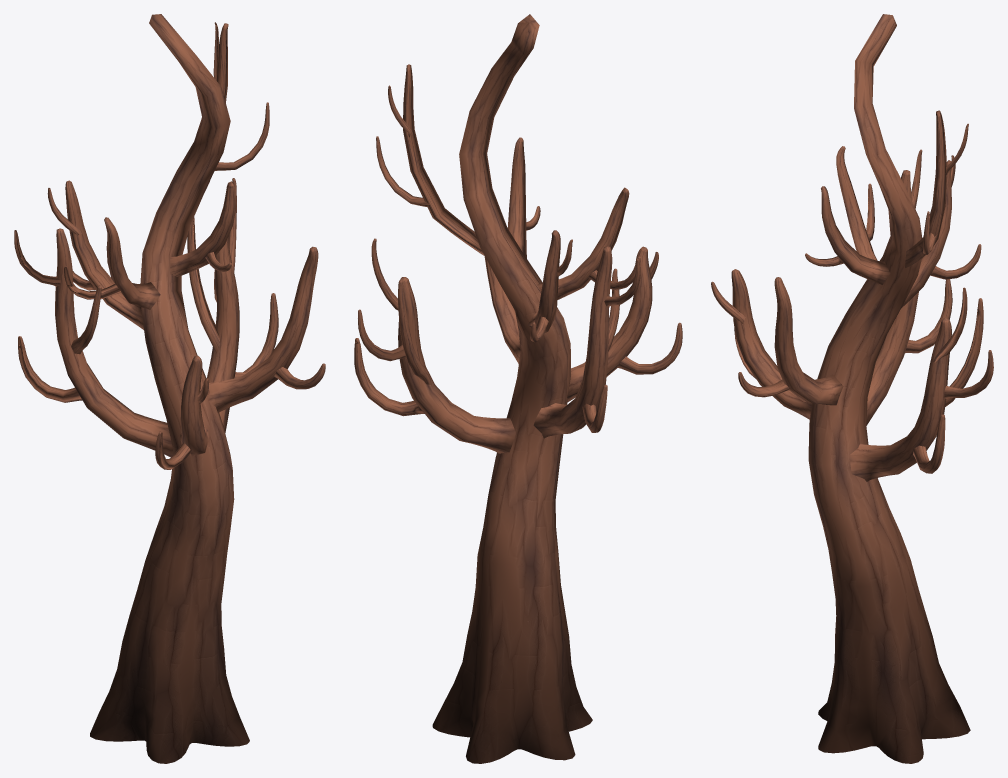
Rendered from commontree_2_bare.gltf.
The picture shows the model from 3 angles, left to right: view 1: azimuth 30°, elevation 25°; view 2: azimuth 150°, elevation 25°; view 3: azimuth 270°, elevation 25°; orthographic projection.
Visible parts, largest first — view 1: commontree_2_bare; view 2: commontree_2_bare; view 3: commontree_2_bare.
Boxes of the visible parts, x1,y1,x2,y2 form: commontree_2_bare: (14, 14, 325, 763); commontree_2_bare: (354, 14, 682, 763); commontree_2_bare: (711, 14, 993, 763).
Bounding box in the file's own units: 2.78 × 6.97 × 2.52.
Materials: 1 (1 with a texture image).
